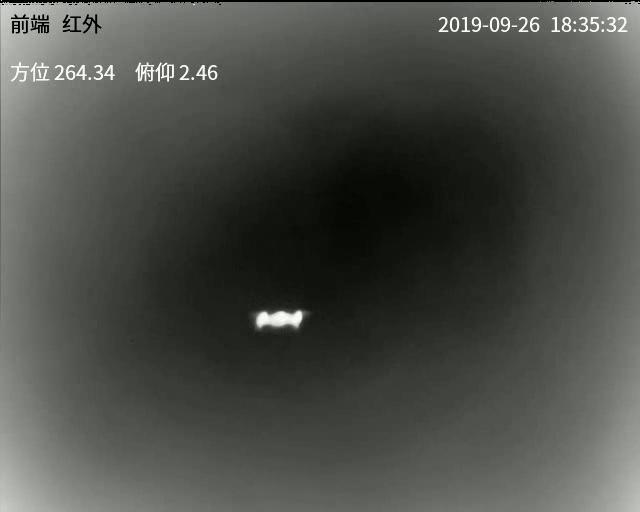DRONE: (253, 309, 305, 332)
